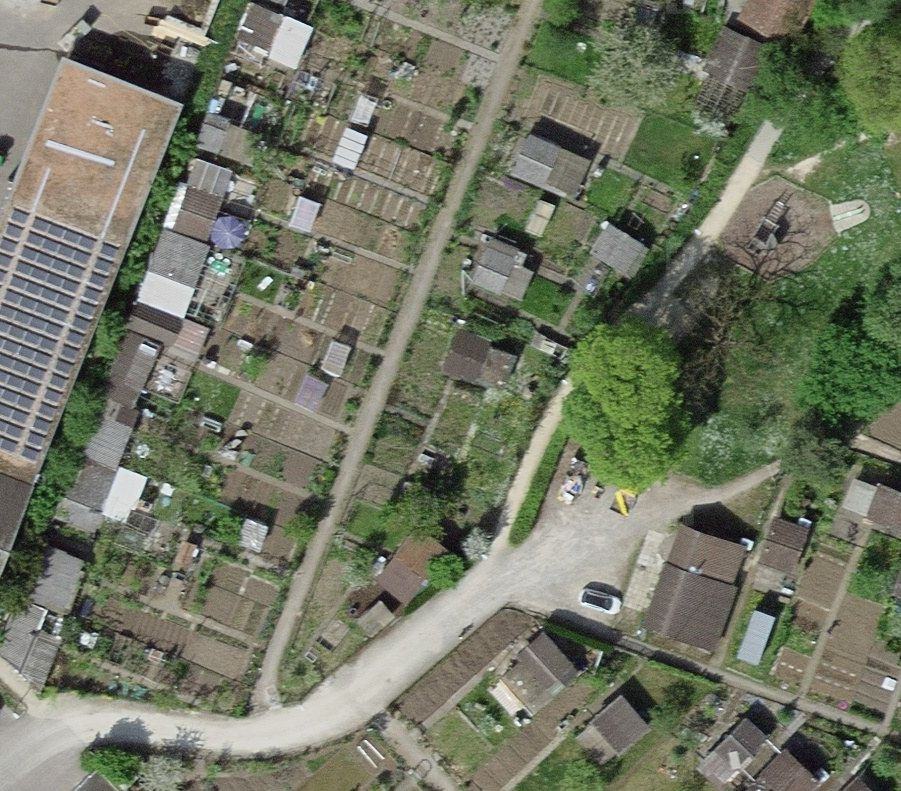solar: (1, 203, 120, 463)
